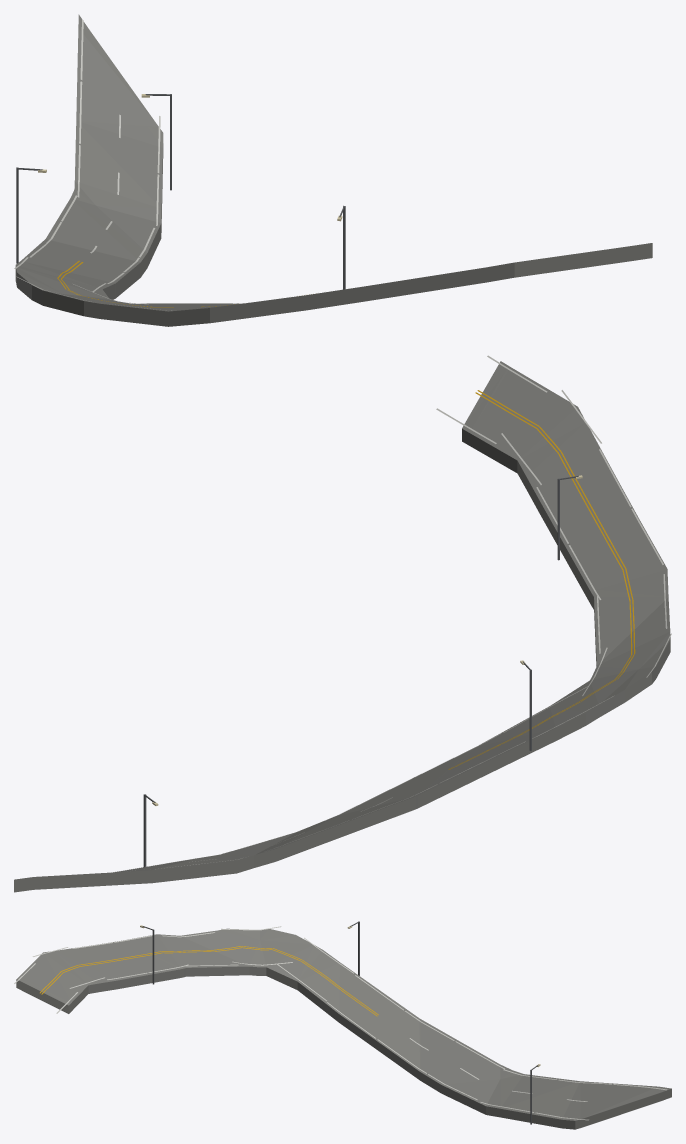
Rendered from 16-54742-29741.d1ceb831.glb.
The picture shows the model from 3 angles, top to bottom: view 1: azimuth 30°, elevation 25°; view 2: azimuth 150°, elevation 25°; view 3: azimuth 270°, elevation 25°; orthographic projection. The views are drawn at different scales.
Bounding box in the file's own units: 36.68 × 21.85 × 82.18.
